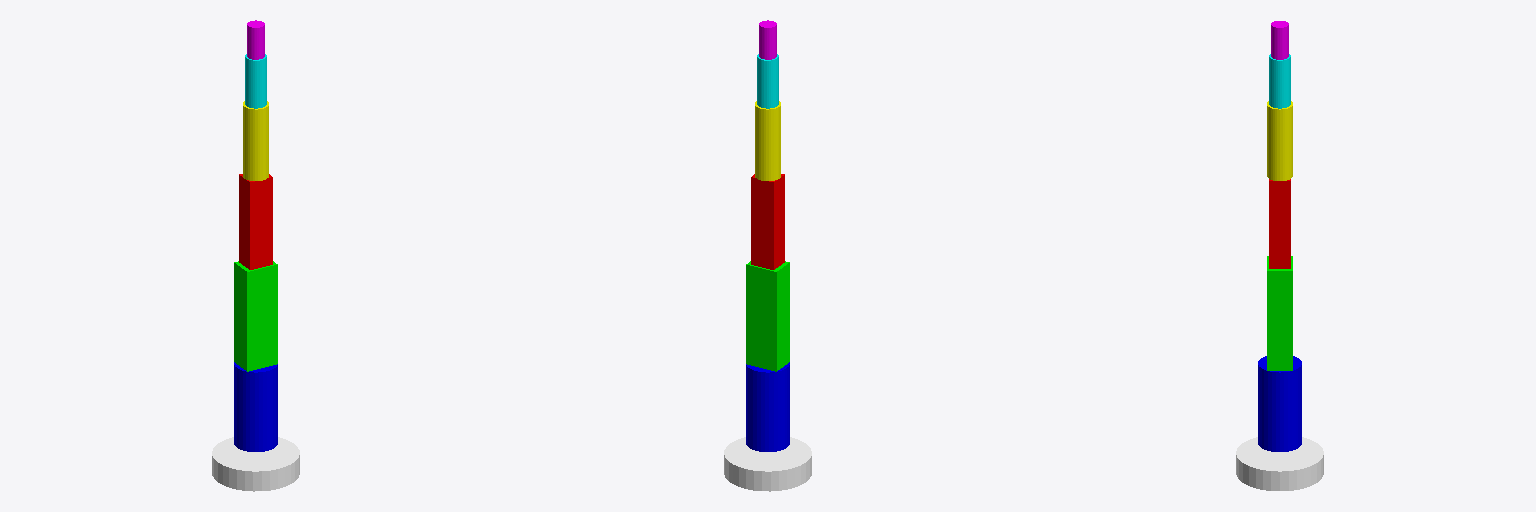
robot.urdf — sekirei:
<?xml version="1.0"?>

<!-- Gazebo integration用だけど、今のところ使わない -->

<robot name="sekirei" xmlns:xacro="http://ros.org/wiki/xacro">

    <!-- Base Link -->
    <link name="world"/>

    <link name="base_link">
        <visual>
            <geometry>
                <cylinder radius="0.1" length="0.05"/>
            </geometry>
            <material name="white">
                <color rgba="1.0 1.0 1.0 1.0"/>
            </material>
        </visual>
        <collision>
            <geometry>
                <cylinder radius="0.1" length="0.05"/>
            </geometry>
        </collision>
        <inertial>
            <mass value="0.5"/>
            <inertia ixx="0.001" ixy="0.0" ixz="0.0" iyy="0.001" iyz="0.0" izz="0.001"/>
        </inertial>
    </link>

    <joint name="world_to_base" type="fixed">
        <parent link="world"/>
        <child link="base_link"/>
        <origin xyz="0 0 0.025" rpy="0 0 0"/>
    </joint>

    <!-- Link 1 -->
    <link name="link1">
        <visual>
            <geometry>
                <cylinder radius="0.05" length="0.2"/>
            </geometry>
            <origin xyz="0 0 0.1" rpy="0 0 0"/>
            <material name="blue">
                <color rgba="0.0 0.0 1.0 1.0"/>
            </material>
        </visual>
        <collision>
            <geometry>
                <cylinder radius="0.05" length="0.2"/>
            </geometry>
            <origin xyz="0 0 0.1" rpy="0 0 0"/>
        </collision>
        <inertial>
            <origin xyz="0 0 0.1" rpy="0 0 0"/>
            <mass value="0.3"/>
            <inertia ixx="0.001" ixy="0.0" ixz="0.0" iyy="0.001" iyz="0.0" izz="0.0005"/>
        </inertial>
    </link>

    <joint name="arm_joint1" type="revolute">
        <parent link="base_link"/>
        <child link="link1"/>
        <origin xyz="0 0 0.05" rpy="0 0 0"/>
        <axis xyz="0 0 1"/>
        <limit lower="-3.14159" upper="3.14159" effort="10.0" velocity="3.14159"/>
        <dynamics damping="0.7" friction="0.1"/>
    </joint>

    <!-- Link 2 -->
    <link name="link2">
        <visual>
            <geometry>
                <box size="0.08 0.06 0.25"/>
            </geometry>
            <origin xyz="0 0 0.125" rpy="0 0 0"/>
            <material name="green">
                <color rgba="0.0 1.0 0.0 1.0"/>
            </material>
        </visual>
        <collision>
            <geometry>
                <box size="0.08 0.06 0.25"/>
            </geometry>
            <origin xyz="0 0 0.125" rpy="0 0 0"/>
        </collision>
        <inertial>
            <origin xyz="0 0 0.125" rpy="0 0 0"/>
            <mass value="0.4"/>
            <inertia ixx="0.002" ixy="0.0" ixz="0.0" iyy="0.002" iyz="0.0" izz="0.0005"/>
        </inertial>
    </link>

    <joint name="arm_joint2" type="revolute">
        <parent link="link1"/>
        <child link="link2"/>
        <origin xyz="0 0 0.2" rpy="0 0 0"/>
        <axis xyz="0 1 0"/>
        <limit lower="-2.61799" upper="2.61799" effort="10.0" velocity="3.14159"/>
        <dynamics damping="0.7" friction="0.1"/>
    </joint>

    <!-- Link 3 -->
    <link name="link3">
        <visual>
            <geometry>
                <box size="0.06 0.05 0.22"/>
            </geometry>
            <origin xyz="0 0 0.11" rpy="0 0 0"/>
            <material name="red">
                <color rgba="1.0 0.0 0.0 1.0"/>
            </material>
        </visual>
        <collision>
            <geometry>
                <box size="0.06 0.05 0.22"/>
            </geometry>
            <origin xyz="0 0 0.11" rpy="0 0 0"/>
        </collision>
        <inertial>
            <origin xyz="0 0 0.11" rpy="0 0 0"/>
            <mass value="0.35"/>
            <inertia ixx="0.0015" ixy="0.0" ixz="0.0" iyy="0.0015" iyz="0.0" izz="0.0004"/>
        </inertial>
    </link>

    <joint name="arm_joint3" type="revolute">
        <parent link="link2"/>
        <child link="link3"/>
        <origin xyz="0 0 0.25" rpy="0 0 0"/>
        <axis xyz="0 1 0"/>
        <limit lower="-2.61799" upper="2.61799" effort="10.0" velocity="3.14159"/>
        <dynamics damping="0.7" friction="0.1"/>
    </joint>

    <!-- Link 4 -->
    <link name="link4">
        <visual>
            <geometry>
                <cylinder radius="0.03" length="0.18"/>
            </geometry>
            <origin xyz="0 0 0.09" rpy="0 0 0"/>
            <material name="yellow">
                <color rgba="1.0 1.0 0.0 1.0"/>
            </material>
        </visual>
        <collision>
            <geometry>
                <cylinder radius="0.03" length="0.18"/>
            </geometry>
            <origin xyz="0 0 0.09" rpy="0 0 0"/>
        </collision>
        <inertial>
            <origin xyz="0 0 0.09" rpy="0 0 0"/>
            <mass value="0.25"/>
            <inertia ixx="0.0008" ixy="0.0" ixz="0.0" iyy="0.0008" iyz="0.0" izz="0.0002"/>
        </inertial>
    </link>

    <joint name="arm_joint4" type="revolute">
        <parent link="link3"/>
        <child link="link4"/>
        <origin xyz="0 0 0.22" rpy="0 0 0"/>
        <axis xyz="0 0 1"/>
        <limit lower="-3.14159" upper="3.14159" effort="5.0" velocity="3.14159"/>
        <dynamics damping="0.5" friction="0.05"/>
    </joint>

    <!-- Link 5 -->
    <link name="link5">
        <visual>
            <geometry>
                <cylinder radius="0.025" length="0.12"/>
            </geometry>
            <origin xyz="0 0 0.06" rpy="0 0 0"/>
            <material name="cyan">
                <color rgba="0.0 1.0 1.0 1.0"/>
            </material>
        </visual>
        <collision>
            <geometry>
                <cylinder radius="0.025" length="0.12"/>
            </geometry>
            <origin xyz="0 0 0.06" rpy="0 0 0"/>
        </collision>
        <inertial>
            <origin xyz="0 0 0.06" rpy="0 0 0"/>
            <mass value="0.2"/>
            <inertia ixx="0.0004" ixy="0.0" ixz="0.0" iyy="0.0004" iyz="0.0" izz="0.0001"/>
        </inertial>
    </link>

    <joint name="arm_joint5" type="revolute">
        <parent link="link4"/>
        <child link="link5"/>
        <origin xyz="0 0 0.18" rpy="0 0 0"/>
        <axis xyz="0 1 0"/>
        <limit lower="-2.61799" upper="2.61799" effort="5.0" velocity="3.14159"/>
        <dynamics damping="0.5" friction="0.05"/>
    </joint>

    <!-- Link 6 (End Effector) -->
    <link name="link6">
        <visual>
            <geometry>
                <cylinder radius="0.02" length="0.08"/>
            </geometry>
            <origin xyz="0 0 0.04" rpy="0 0 0"/>
            <material name="magenta">
                <color rgba="1.0 0.0 1.0 1.0"/>
            </material>
        </visual>
        <collision>
            <geometry>
                <cylinder radius="0.02" length="0.08"/>
            </geometry>
            <origin xyz="0 0 0.04" rpy="0 0 0"/>
        </collision>
        <inertial>
            <origin xyz="0 0 0.04" rpy="0 0 0"/>
            <mass value="0.15"/>
            <inertia ixx="0.0001" ixy="0.0" ixz="0.0" iyy="0.0001" iyz="0.0" izz="0.00005"/>
        </inertial>
    </link>

    <joint name="arm_joint6" type="revolute">
        <parent link="link5"/>
        <child link="link6"/>
        <origin xyz="0 0 0.12" rpy="0 0 0"/>
        <axis xyz="0 0 1"/>
        <limit lower="-3.14159" upper="3.14159" effort="5.0" velocity="3.14159"/>
        <dynamics damping="0.5" friction="0.05"/>
    </joint>

    <!-- End Effector Frame -->
    <link name="end_effector"/>

    <joint name="end_effector_joint" type="fixed">
        <parent link="link6"/>
        <child link="end_effector"/>
        <origin xyz="0 0 0.08" rpy="0 0 0"/>
    </joint>

    <!-- Gazebo ros2_control plugin -->
    <gazebo>
        <plugin filename="gz_ros2_control-system" name="gz_ros2_control::GazeboSimROS2ControlPlugin">
            <parameters>/root/ros_ws/install/sekirei_moveit_config/share/sekirei_moveit_config/config/ros2_controllers.yaml</parameters>
        </plugin>
    </gazebo>

    <!-- ros2_control configuration for Gazebo -->
    <ros2_control name="GazeboSystem" type="system">
        <hardware>
            <plugin>gz_ros2_control/GazeboSystem</plugin>
        </hardware>

        <joint name="arm_joint1">
            <command_interface name="position"/>
            <state_interface name="position">
                <param name="initial_value">0.0</param>
            </state_interface>
            <state_interface name="velocity"/>
        </joint>

        <joint name="arm_joint2">
            <command_interface name="position"/>
            <state_interface name="position">
                <param name="initial_value">0.0</param>
            </state_interface>
            <state_interface name="velocity"/>
        </joint>

        <joint name="arm_joint3">
            <command_interface name="position"/>
            <state_interface name="position">
                <param name="initial_value">0.0</param>
            </state_interface>
            <state_interface name="velocity"/>
        </joint>

        <joint name="arm_joint4">
            <command_interface name="position"/>
            <state_interface name="position">
                <param name="initial_value">0.0</param>
            </state_interface>
            <state_interface name="velocity"/>
        </joint>

        <joint name="arm_joint5">
            <command_interface name="position"/>
            <state_interface name="position">
                <param name="initial_value">0.0</param>
            </state_interface>
            <state_interface name="velocity"/>
        </joint>

        <joint name="arm_joint6">
            <command_interface name="position"/>
            <state_interface name="position">
                <param name="initial_value">0.0</param>
            </state_interface>
            <state_interface name="velocity"/>
        </joint>
    </ros2_control>

    <!-- Gazebo-specific properties -->
    <gazebo reference="base_link">
        <material>Gazebo/White</material>
    </gazebo>

    <gazebo reference="link1">
        <material>Gazebo/Blue</material>
    </gazebo>

    <gazebo reference="link2">
        <material>Gazebo/Green</material>
    </gazebo>

    <gazebo reference="link3">
        <material>Gazebo/Red</material>
    </gazebo>

    <gazebo reference="link4">
        <material>Gazebo/Yellow</material>
    </gazebo>

    <gazebo reference="link5">
        <material>Gazebo/SkyBlue</material>
    </gazebo>

    <gazebo reference="link6">
        <material>Gazebo/Purple</material>
    </gazebo>

</robot>

--- Facts derived from the render (not from the file) ---
Views: 3 orthographic renders of the robot side by side, from view 1: azimuth 30°, elevation 25°; view 2: azimuth 150°, elevation 25°; view 3: azimuth 270°, elevation 25°.
Robot: sekirei — 9 links, 8 joints (6 revolute, 2 fixed); root link world; default pose: every joint at zero.
Links seen in each view (by area): view 1: link2, base_link, link1, link3, link4, link5, link6; view 2: link2, base_link, link1, link3, link4, link5, link6; view 3: link1, base_link, link2, link3, link4, link5, link6.
Link boxes in pixels (box(x1,y1,x2,y2)): link2: box(234, 261, 277, 371); base_link: box(212, 437, 299, 491); link1: box(234, 362, 277, 451); link3: box(239, 174, 272, 269); link4: box(243, 101, 268, 180); link5: box(245, 54, 266, 108); link6: box(247, 20, 264, 59); link2: box(746, 261, 789, 371); base_link: box(724, 437, 811, 491); link1: box(746, 362, 789, 451); link3: box(751, 174, 784, 269); link4: box(755, 101, 780, 180); link5: box(757, 54, 778, 108); link6: box(759, 20, 776, 59); link1: box(1258, 356, 1301, 451); base_link: box(1236, 437, 1323, 490); link2: box(1267, 256, 1292, 370); link3: box(1269, 179, 1290, 268); link4: box(1267, 101, 1292, 180); link5: box(1269, 54, 1290, 108); link6: box(1271, 21, 1288, 59).
Size in the robot's own frame: 0.2 by 0.2 by 1.12 metres.
Geometry: primitives only (box / cylinder / sphere), no mesh files.
